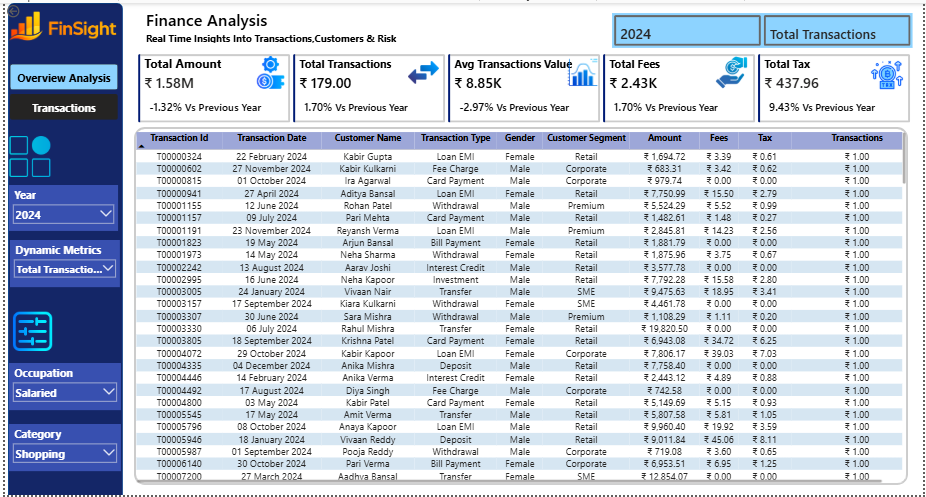

The dashboard page shown, as its layout file describes it:
{"tool":"powerbi","page":{"name":"Transactions","canvas":[2240,1200],"ordinal":1},"visuals":[{"type":"shape","box":[7.3,0,280.5,1219.5],"z":0},{"type":"cardVisual","fields":{"Data":["finance_transactions.Total Amount","finance_transactions.Total Transactions","finance_transactions.Avg Transactions Value","finance_transactions.Total Fees","finance_transactions.Total Tax"]},"box":[314.6,114.6,1904.9,187.8],"z":1000},{"type":"slicer","fields":{"Values":["customers.occupation"]},"box":[9.8,878,273.2,114.6],"z":2000},{"type":"slicer","fields":{"Values":["Dynamic Metrics.Dynamic Metrics"]},"box":[7.3,580.5,268.3,114.6],"z":3000},{"type":"shape","box":[314.6,302.4,1887.8,873.2],"z":4000},{"type":"cardVisual","fields":{"Data":["finance_transactions.Selected Year","finance_transactions.Selected Dynamic Measure"]},"box":[1475.6,19.5,743.9,95.1],"z":5000},{"type":"tableEx","fields":{"Values":["finance_transactions.transaction_id","finance_transactions.transaction_date","customers.Customer_name","finance_transactions.transaction_type","customers.gender","customers.customer_segment","finance_transactions.Total Amount","finance_transactions.Total Fees","finance_transactions.Total Tax","finance_transactions.Total Transactions"]},"box":[314.6,309.8,1887.8,865.9],"z":6000},{"type":"image","box":[592.7,129.3,109.8,80.5],"z":7000},{"type":"image","box":[975.6,129.3,90.2,80.5],"z":8000},{"type":"image","box":[1370.7,129.3,75.6,80.5],"z":9000},{"type":"image","box":[1722,129.3,100,80.5],"z":10000},{"type":"image","box":[2100,129.3,102.4,92.7],"z":11000},{"type":"image","box":[9.8,324.4,102.4,100],"z":12000},{"type":"image","box":[12.2,743.9,109.8,114.6],"z":13000},{"type":"image","box":[0,0,287.8,114.6],"z":15000},{"type":"slicer","fields":{"Values":["Calender Table.Year"]},"box":[9.8,443.9,265.9,112.2],"z":16000},{"type":"slicer","fields":{"Values":["finance_transactions.merchant_category"]},"box":[9.8,1026.8,273.2,114.6],"z":17000},{"type":"cardVisual","fields":{"Data":["finance_transactions.Dashboard Title"]},"box":[314.6,0,773.2,117.1],"z":18000},{"type":"actionButton","box":[0,0,100,40],"z":18001},{"type":"pageNavigator","box":[12.2,148.8,263.4,136.6],"z":18002}]}

Visuals, with their boxes on the page's 2240x1200 design canvas (x1, y1, x2, y2). These are canvas units, not pixel positions in the 926x497 screenshot, which may show the page scaled, cropped or inside an application window:
shape: select_region(7, 0, 288, 1220)
cardVisual - finance_transactions.Total Amount x finance_transactions.Total Transactions: select_region(315, 115, 2220, 302)
slicer - customers.occupation: select_region(10, 878, 283, 993)
slicer - Dynamic Metrics.Dynamic Metrics: select_region(7, 580, 276, 695)
shape: select_region(315, 302, 2202, 1176)
cardVisual - finance_transactions.Selected Year x finance_transactions.Selected Dynamic Measure: select_region(1476, 20, 2220, 115)
tableEx - finance_transactions.transaction_id x finance_transactions.transaction_date: select_region(315, 310, 2202, 1176)
image: select_region(593, 129, 702, 210)
image: select_region(976, 129, 1066, 210)
image: select_region(1371, 129, 1446, 210)
image: select_region(1722, 129, 1822, 210)
image: select_region(2100, 129, 2202, 222)
image: select_region(10, 324, 112, 424)
image: select_region(12, 744, 122, 858)
image: select_region(0, 0, 288, 115)
slicer - Calender Table.Year: select_region(10, 444, 276, 556)
slicer - finance_transactions.merchant_category: select_region(10, 1027, 283, 1141)
cardVisual - finance_transactions.Dashboard Title: select_region(315, 0, 1088, 117)
actionButton: select_region(0, 0, 100, 40)
pageNavigator: select_region(12, 149, 276, 285)
